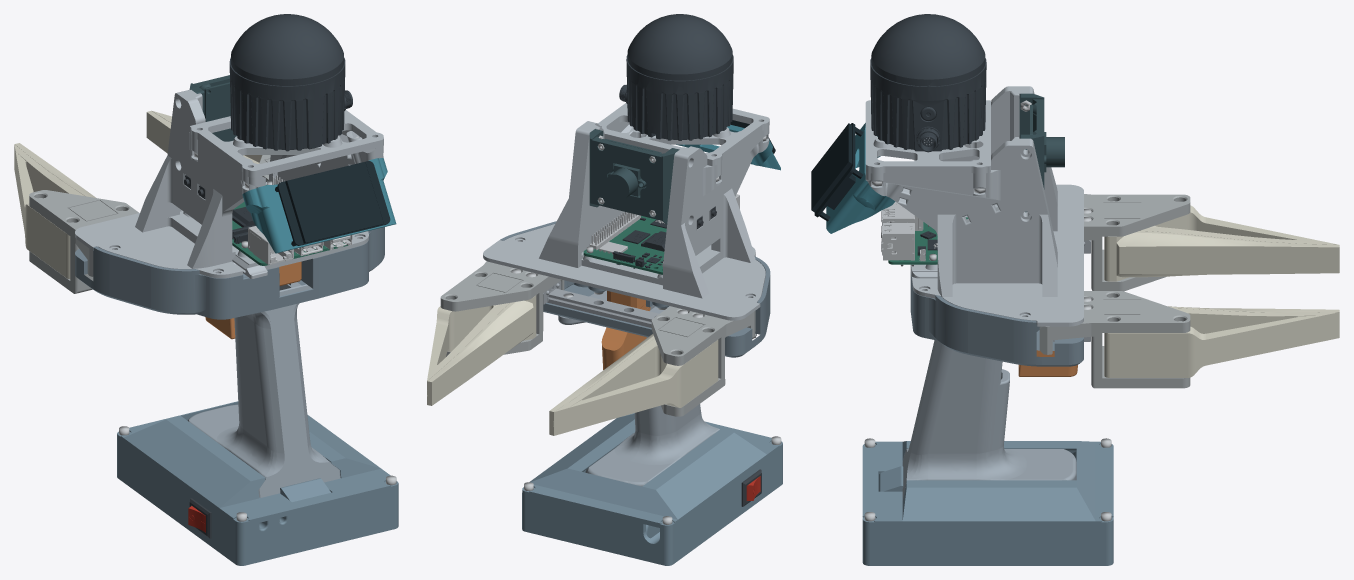
Rendered from umi-live-cad.glb.
3 renders of one model, left to right at view 1: azimuth 30°, elevation 25°; view 2: azimuth 150°, elevation 25°; view 3: azimuth 270°, elevation 25°, orthographic. The views are drawn at different scales.
Visible parts, largest first — view 1: battery__battery, body_top__body, grip__grip, lidar__lidar, body_bottom__body_band, lcd__screen, lidar_plate__body, finger_l__finger, holder_l__holder, lcd_mount__lcd_mount, pi__metal, camera__camera (+4 smaller); view 2: body_top__body, battery__battery, lidar__lidar, finger_l__finger, finger_r__finger, grip__grip, camera_mount__camera, holder_l__holder, holder_r__holder, body_bottom__body_band, lidar_plate__body, rail__steel (+7 smaller); view 3: body_top__body, battery__battery, lidar__lidar, grip__grip, finger_l__finger, finger_r__finger, body_bottom__body_band, holder_r__holder, holder_l__holder, lidar_plate__body, lcd__screen, lcd_mount__lcd_mount (+5 smaller).
Boxes of the visible parts, bbox=[...] form: battery__battery: bbox=[117, 401, 398, 565]; body_top__body: bbox=[75, 89, 383, 278]; grip__grip: bbox=[187, 282, 340, 497]; lidar__lidar: bbox=[229, 14, 352, 151]; body_bottom__body_band: bbox=[75, 227, 384, 319]; lcd__screen: bbox=[275, 161, 390, 246]; lidar_plate__body: bbox=[190, 110, 383, 177]; finger_l__finger: bbox=[14, 143, 95, 278]; holder_l__holder: bbox=[29, 190, 138, 293]; lcd_mount__lcd_mount: bbox=[242, 158, 396, 253]; pi__metal: bbox=[248, 175, 352, 264]; camera__camera: bbox=[204, 82, 236, 141]; body_top__body: bbox=[483, 121, 769, 320]; battery__battery: bbox=[522, 413, 782, 565]; lidar__lidar: bbox=[619, 14, 733, 140]; finger_l__finger: bbox=[549, 334, 718, 435]; finger_r__finger: bbox=[427, 295, 536, 405]; grip__grip: bbox=[558, 290, 719, 486]; camera_mount__camera: bbox=[589, 129, 679, 224]; holder_l__holder: bbox=[651, 306, 755, 416]; holder_r__holder: bbox=[440, 261, 564, 356]; body_bottom__body_band: bbox=[500, 221, 770, 357]; lidar_plate__body: bbox=[598, 103, 769, 166]; rail__steel: bbox=[547, 288, 659, 327]; body_top__body: bbox=[865, 86, 1083, 326]; battery__battery: bbox=[862, 441, 1113, 565]; lidar__lidar: bbox=[870, 14, 986, 152]; grip__grip: bbox=[902, 340, 1076, 500]; finger_l__finger: bbox=[1104, 205, 1339, 281]; finger_r__finger: bbox=[1104, 306, 1339, 377]; body_bottom__body_band: bbox=[910, 271, 1083, 366]; holder_r__holder: bbox=[1039, 291, 1190, 388]; holder_l__holder: bbox=[1084, 194, 1190, 291]; lidar_plate__body: bbox=[865, 100, 990, 174]; lcd__screen: bbox=[811, 123, 863, 221]; lcd_mount__lcd_mount: bbox=[826, 123, 895, 233].
Size of the model in its own units: 0.172 by 0.2943 by 0.2783.
